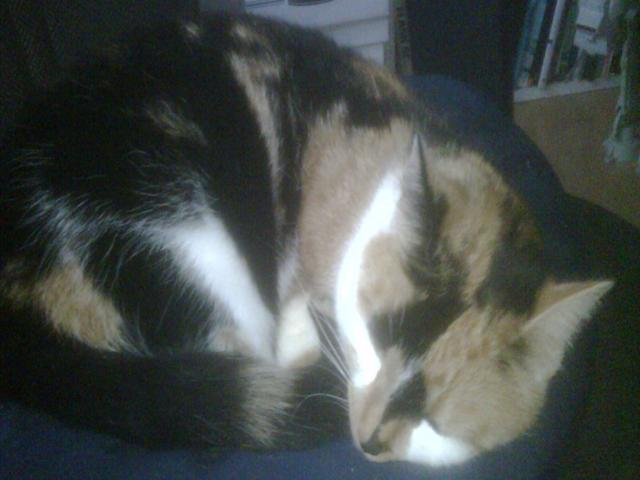Cat: (0, 11, 622, 472)
